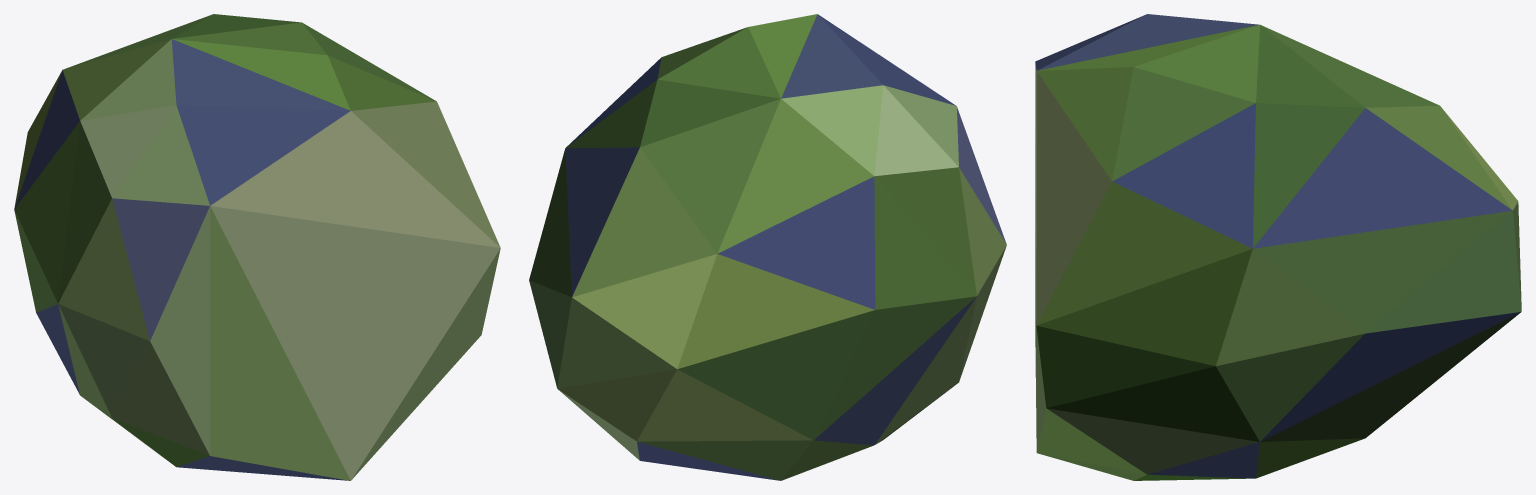
The model's file is Bush_B-DetailA.fbx.
The picture shows the model from 3 angles, left to right: view 1: azimuth 30°, elevation 25°; view 2: azimuth 150°, elevation 25°; view 3: azimuth 270°, elevation 25°; orthographic projection. The views are drawn at different scales.
Visible parts, largest first — view 1: Bush_B-DetailA; view 2: Bush_B-DetailA; view 3: Bush_B-DetailA.
Boxes of the visible parts, <box> form: Bush_B-DetailA: <box>14,14,500,480</box>; Bush_B-DetailA: <box>529,14,1006,480</box>; Bush_B-DetailA: <box>1035,14,1521,480</box>.
Size of the model in its own units: 145 by 138 by 147.
